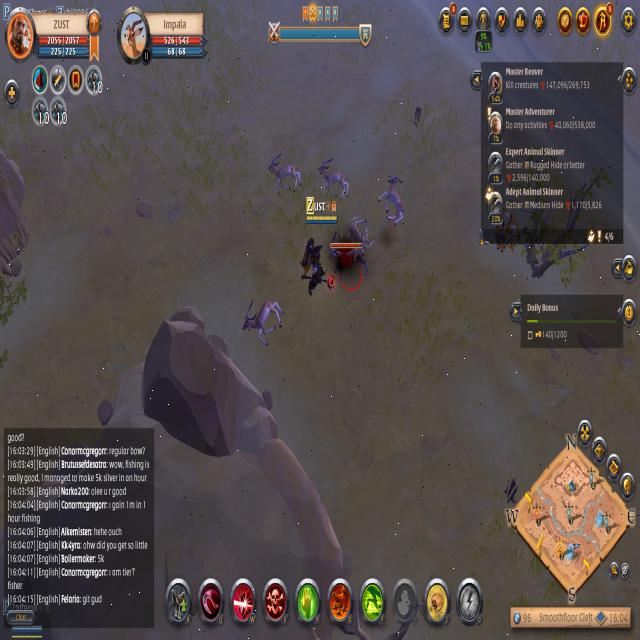deer_dead: (372, 160, 410, 237), (240, 290, 286, 352), (312, 151, 356, 208), (263, 144, 305, 201)
targeting: (326, 231, 375, 296)
